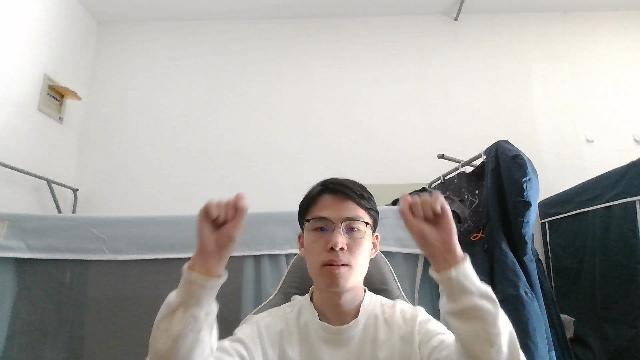ten: (394, 186, 465, 267), (191, 189, 250, 270)
